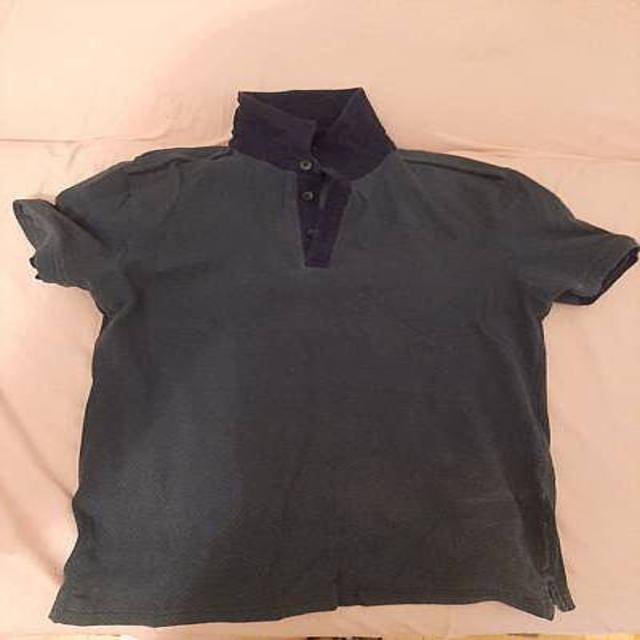T_SHIRT: (0, 71, 640, 629)
